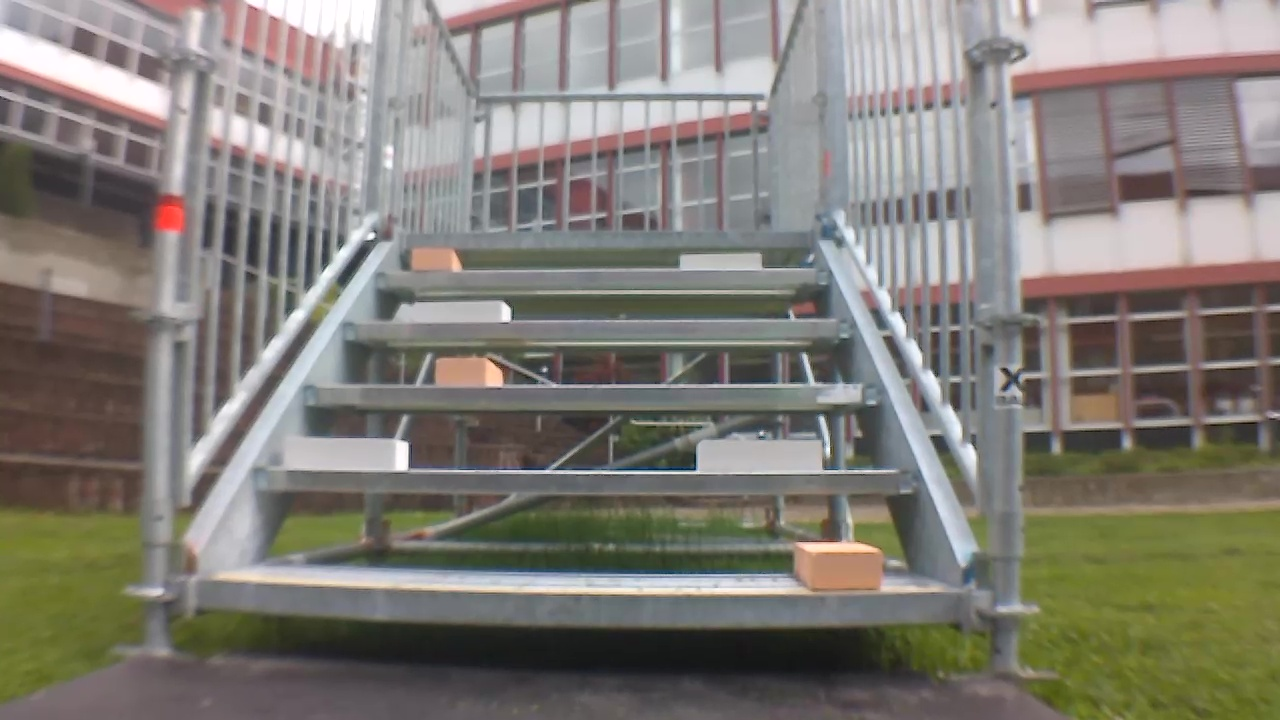brick: (697, 439, 824, 472), (285, 436, 407, 470), (796, 542, 881, 589), (414, 302, 511, 322), (435, 358, 503, 386), (679, 252, 759, 270), (411, 248, 459, 271)
edge: (196, 579, 966, 628), (255, 470, 915, 494), (306, 384, 882, 410), (343, 320, 853, 340), (376, 267, 833, 287), (404, 230, 818, 249)
stairs: (129, 2, 1050, 694)
steps: (189, 224, 979, 635)
